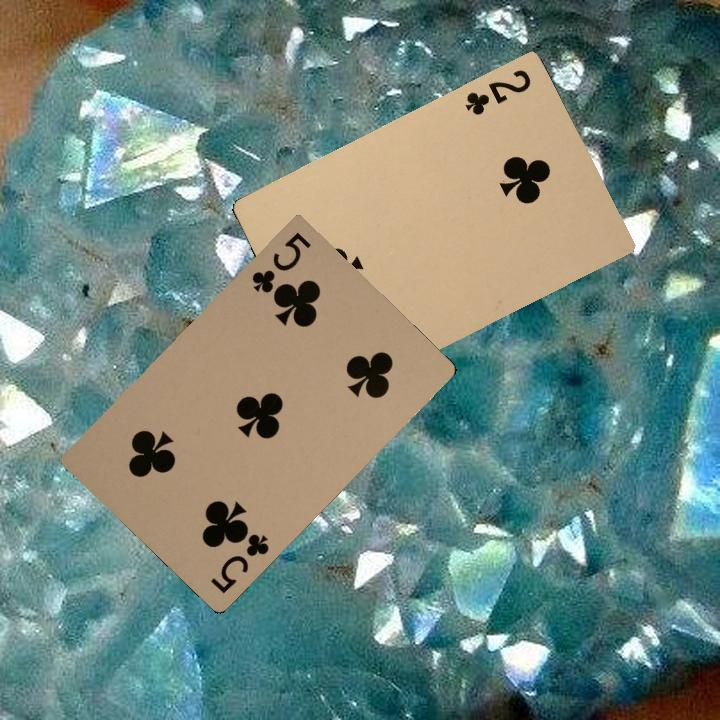2c: (461, 65, 534, 118)
5c: (206, 525, 272, 596), (247, 227, 313, 296)
